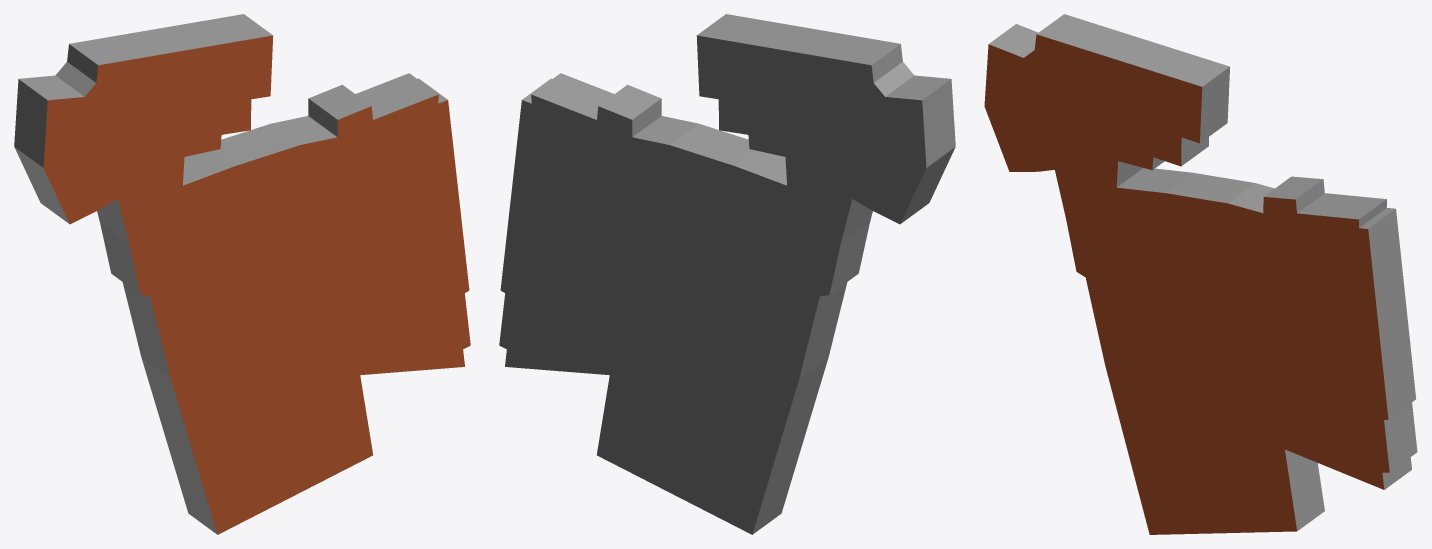
The model's file is construction_4645_assumed_A_Casa_h6m.obj.
3 views of the same model, side by side, from view 1: azimuth 30°, elevation 25°; view 2: azimuth 150°, elevation 25°; view 3: azimuth 330°, elevation 25° (orthographic). The views are drawn at different scales.
Parts seen in each view (by area): view 1: construction_4645_assumed_A_Casa; view 2: construction_4645_assumed_A_Casa; view 3: construction_4645_assumed_A_Casa.
Boxes of the visible parts, left/top/right/bottom form: construction_4645_assumed_A_Casa: left=14, top=14, right=470, bottom=534; construction_4645_assumed_A_Casa: left=499, top=14, right=955, bottom=534; construction_4645_assumed_A_Casa: left=984, top=14, right=1417, bottom=534.
Bounding box in the file's own units: 50.53 × 56.36 × 6.
